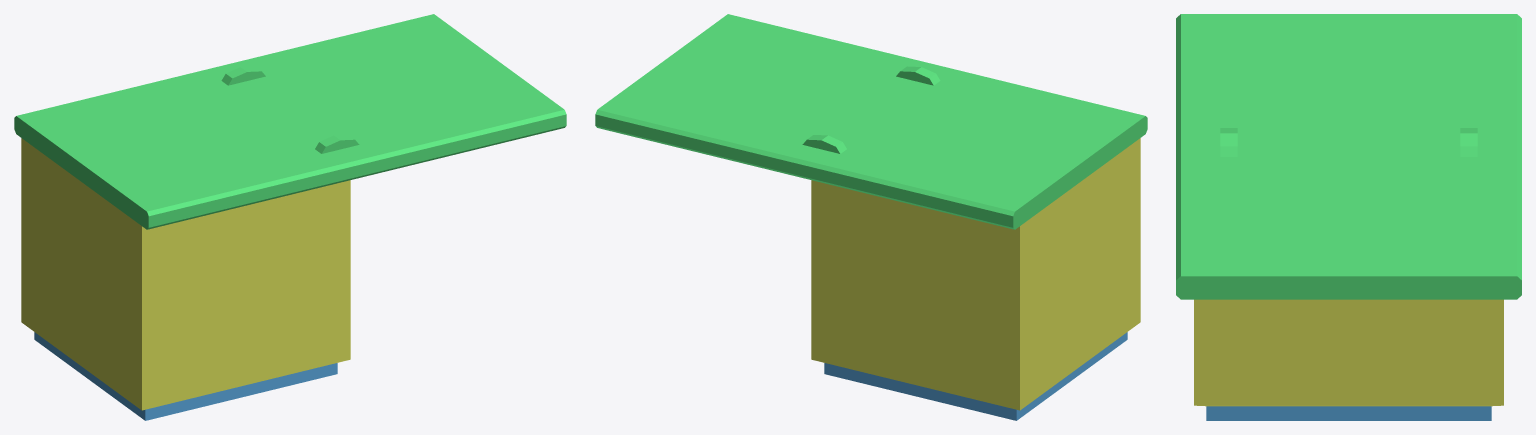
File: Desk_07_D.fbx
The picture shows the model from 3 angles, left to right: view 1: azimuth 30°, elevation 25°; view 2: azimuth 150°, elevation 25°; view 3: azimuth 270°, elevation 25°; orthographic projection. The views are drawn at different scales.
Visible parts, largest first — view 1: Desk_07_D, Desk_07_D_Door; view 2: Desk_07_D, Desk_07_D_Door; view 3: Desk_07_D, Desk_07_D_Door.
Boxes of the visible parts, x1,y1,x2,y2 form: Desk_07_D: [14, 65, 357, 420]; Desk_07_D_Door: [225, 14, 566, 178]; Desk_07_D: [804, 65, 1147, 420]; Desk_07_D_Door: [595, 14, 936, 178]; Desk_07_D: [1176, 14, 1521, 420]; Desk_07_D_Door: [1176, 133, 1521, 299].
Size of the model in its own units: 183 by 95.25 by 102.
